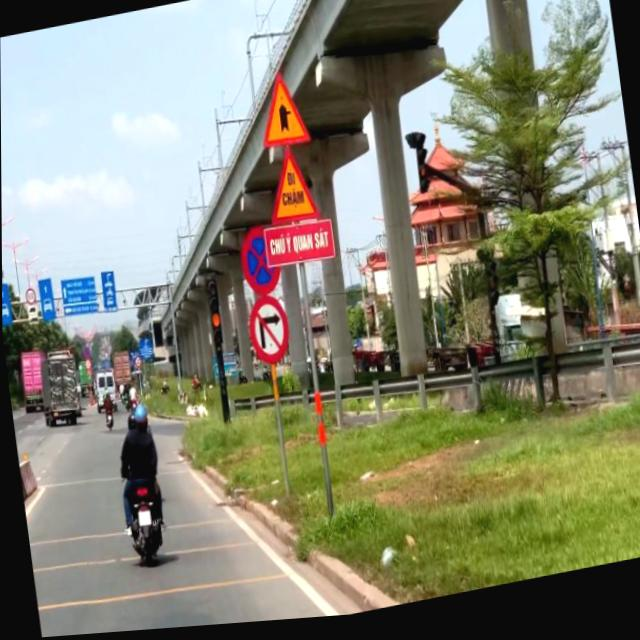Cam re phai: (245, 296, 292, 370)
Di cham: (260, 143, 321, 237)
Giao nhau voi duong khong uu tien ben phai: (252, 69, 313, 157)
